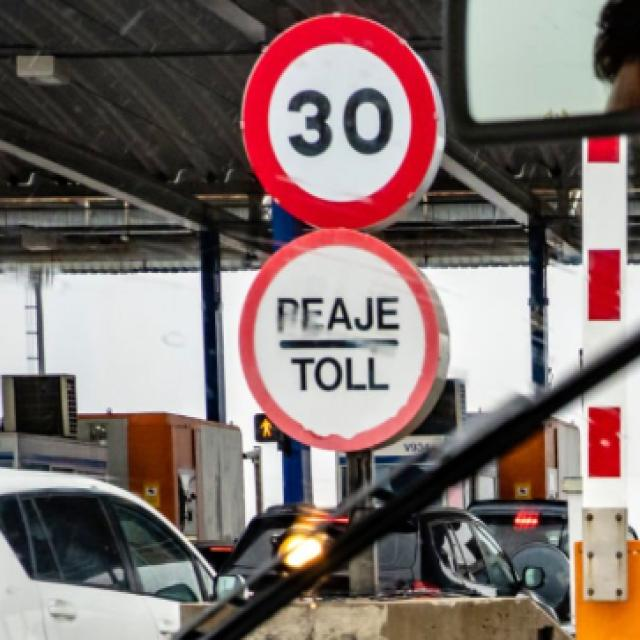Speed limit 30: (237, 11, 447, 232)
